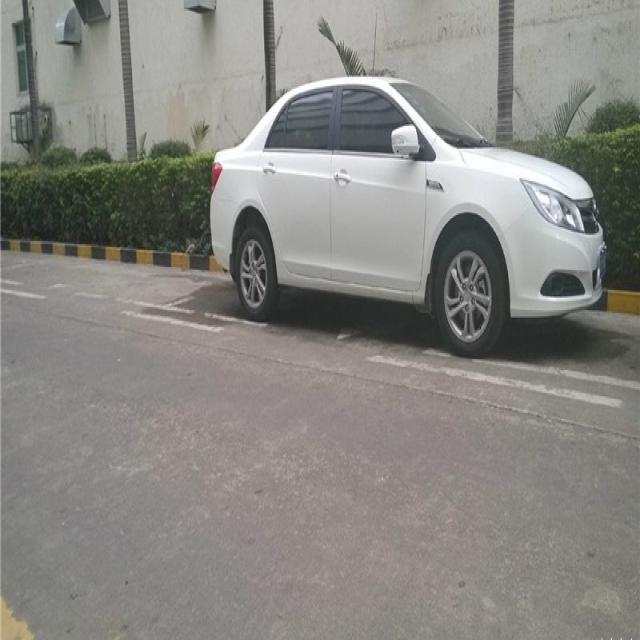back_right_side_light: (210, 161, 224, 201)
door: (257, 86, 338, 287)
front_bumper: (496, 200, 608, 322)
front_right_side_door: (328, 81, 430, 295)
front_right_side_light: (518, 175, 586, 236)
front_right_side_mirror: (392, 121, 422, 168)
rear_bumper: (208, 184, 242, 281)
wheel: (434, 227, 506, 358), (235, 224, 277, 322)
